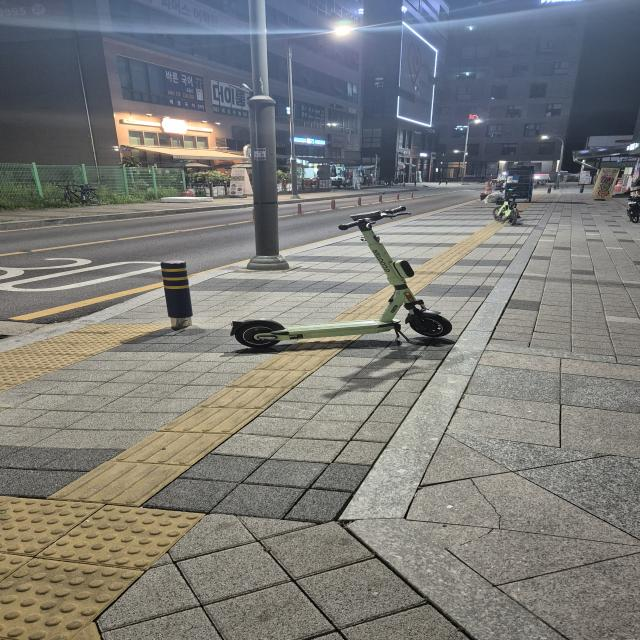curb: (340, 205, 566, 640), (135, 248, 138, 249)
kick-board: (233, 206, 453, 348)
lane: (0, 335, 360, 640), (2, 324, 164, 386), (337, 288, 391, 320)
road: (0, 209, 255, 320), (280, 190, 477, 249)
sidewalk: (98, 329, 473, 640), (406, 194, 639, 640), (0, 236, 384, 499), (380, 202, 488, 266)
